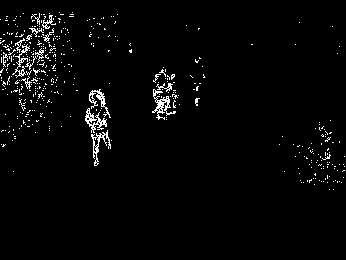person: (83, 89, 113, 168), (190, 54, 206, 109)
